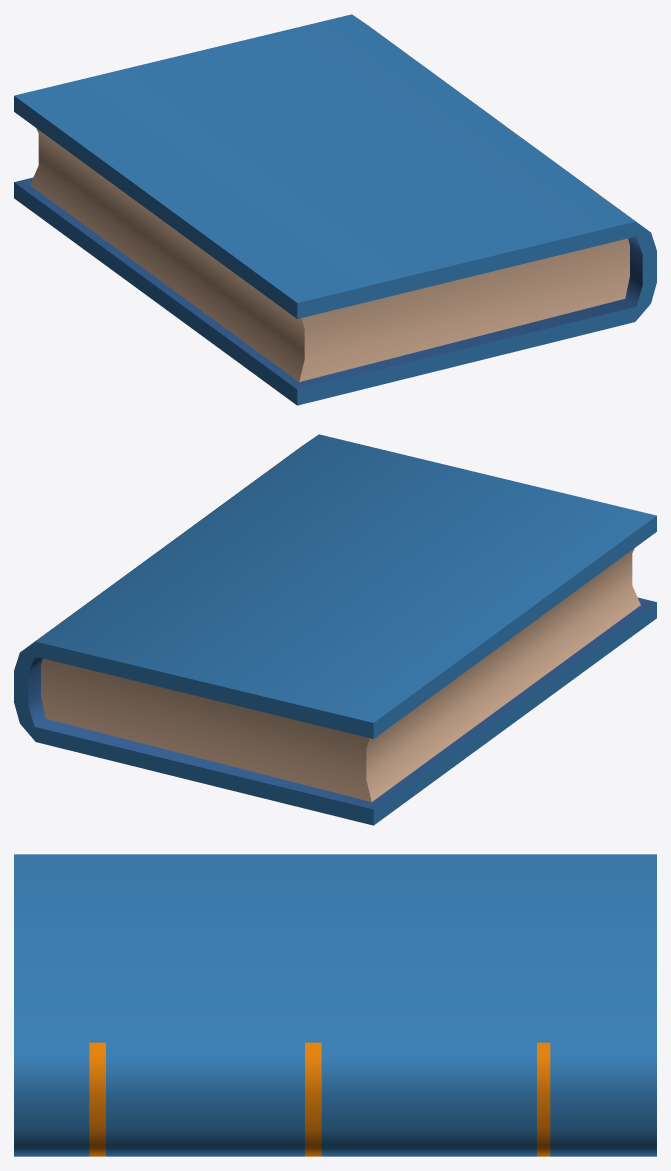
The model's file is BookClosed3.fbx.
3 renders of one model, top to bottom at view 1: azimuth 30°, elevation 25°; view 2: azimuth 150°, elevation 25°; view 3: azimuth 270°, elevation 25°, orthographic. The views are drawn at different scales.
Parts seen in each view (by area): view 1: BookClosed3; view 2: BookClosed3; view 3: BookClosed3.
Part boxes in pixels (x1=…): BookClosed3: x1=14, y1=14, x2=656, y2=405; BookClosed3: x1=14, y1=434, x2=656, y2=825; BookClosed3: x1=14, y1=854, x2=656, y2=1156.
Size of the model in its own units: 22 by 6 by 30.01.
